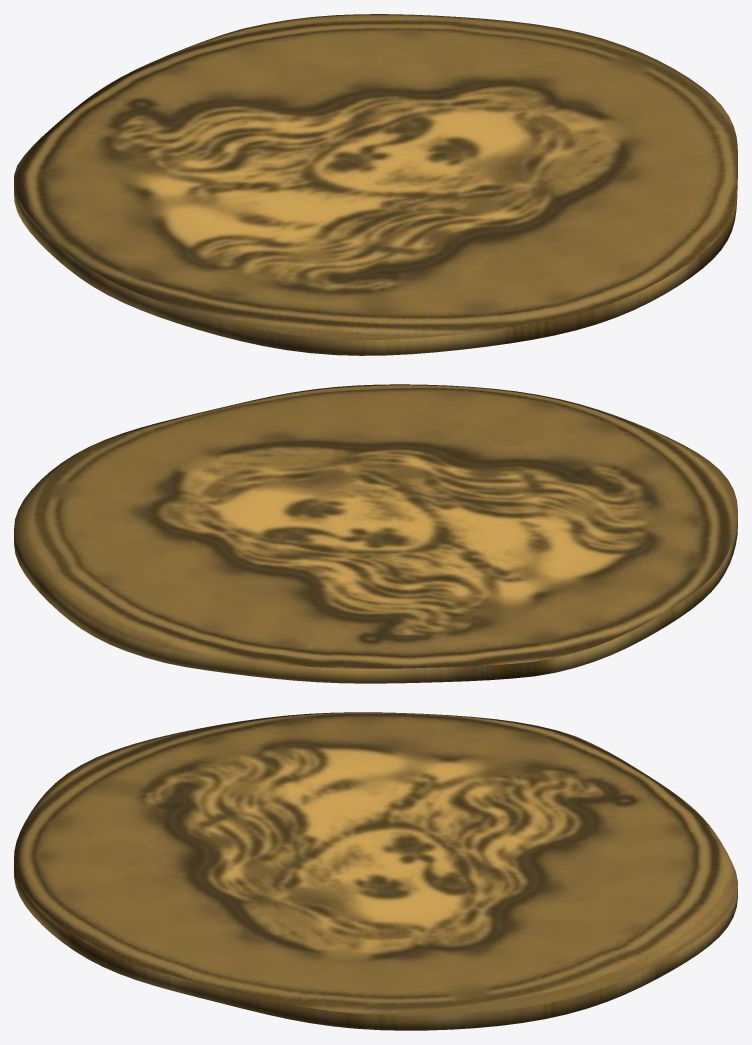
The model's file is zodiac_06.glb.
3 renders of one model, top to bottom at view 1: azimuth 30°, elevation 25°; view 2: azimuth 150°, elevation 25°; view 3: azimuth 270°, elevation 25°, orthographic. The views are drawn at different scales.
Parts seen in each view (by area): view 1: zodiac_06; view 2: zodiac_06; view 3: zodiac_06.
Part boxes in pixels (box(x1,y1,x2,y2)): zodiac_06: box(14, 14, 737, 355); zodiac_06: box(14, 384, 737, 683); zodiac_06: box(14, 712, 737, 1030).
Bounding box in the file's own units: 0.951 × 0.0402 × 0.9593.
1 material, 1 textured.
